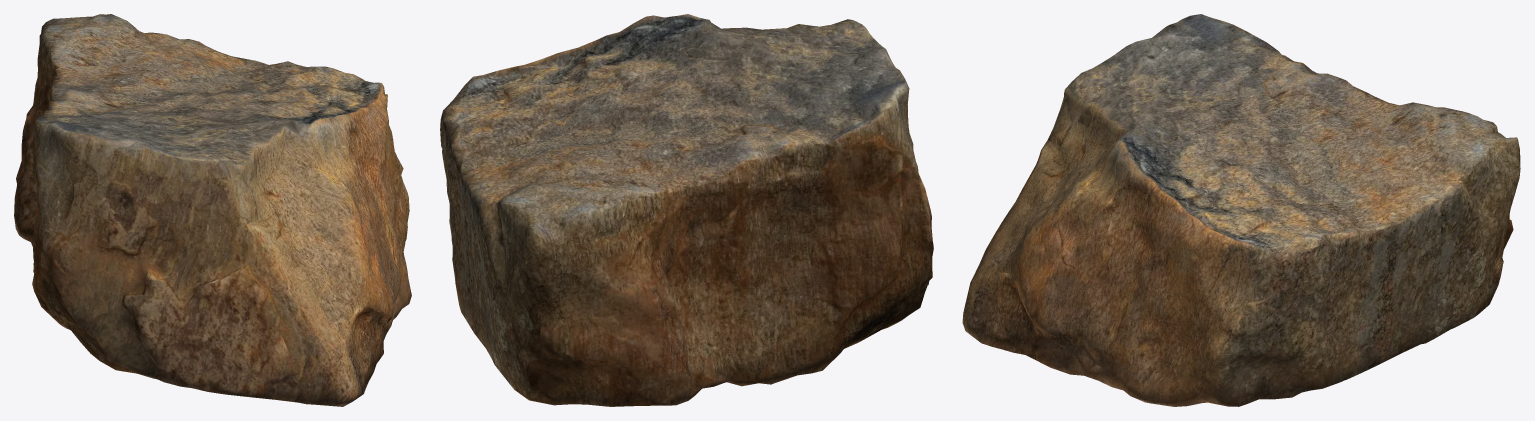
File: boulder_a.glb
3 renders of one model, left to right at view 1: azimuth 30°, elevation 25°; view 2: azimuth 150°, elevation 25°; view 3: azimuth 270°, elevation 25°, orthographic. The views are drawn at different scales.
Parts seen in each view (by area): view 1: realCap_Model_2; view 2: realCap_Model_2; view 3: realCap_Model_2.
Part boxes in pixels (<box>): realCap_Model_2: <box>14,14,411,406</box>; realCap_Model_2: <box>440,14,933,406</box>; realCap_Model_2: <box>962,14,1520,406</box>.
Size of the model in its own units: 2.4 by 1.48 by 3.06.
Materials: 1 (1 with a texture image).
